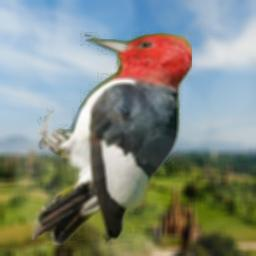Woodpecker: (28, 31, 192, 245)
